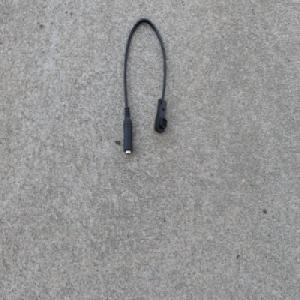Wire: (122, 14, 169, 157)
